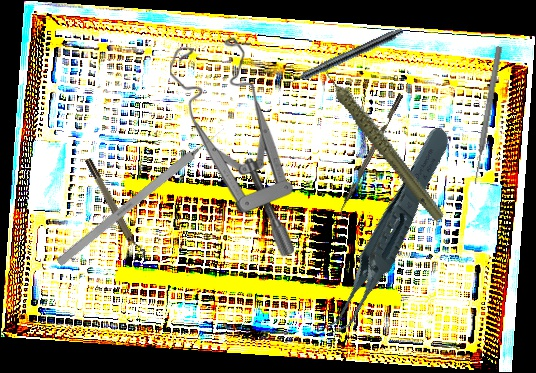Chopper: (334, 93, 410, 221)
Fixation Ring: (83, 154, 148, 263)
Handpiece: (320, 42, 446, 239), (281, 24, 405, 90)
Hook Surgical: (55, 125, 228, 267)
Pusher: (470, 45, 504, 186)
Speculum: (170, 37, 294, 258)
Tissue Forceps: (280, 123, 489, 344)
